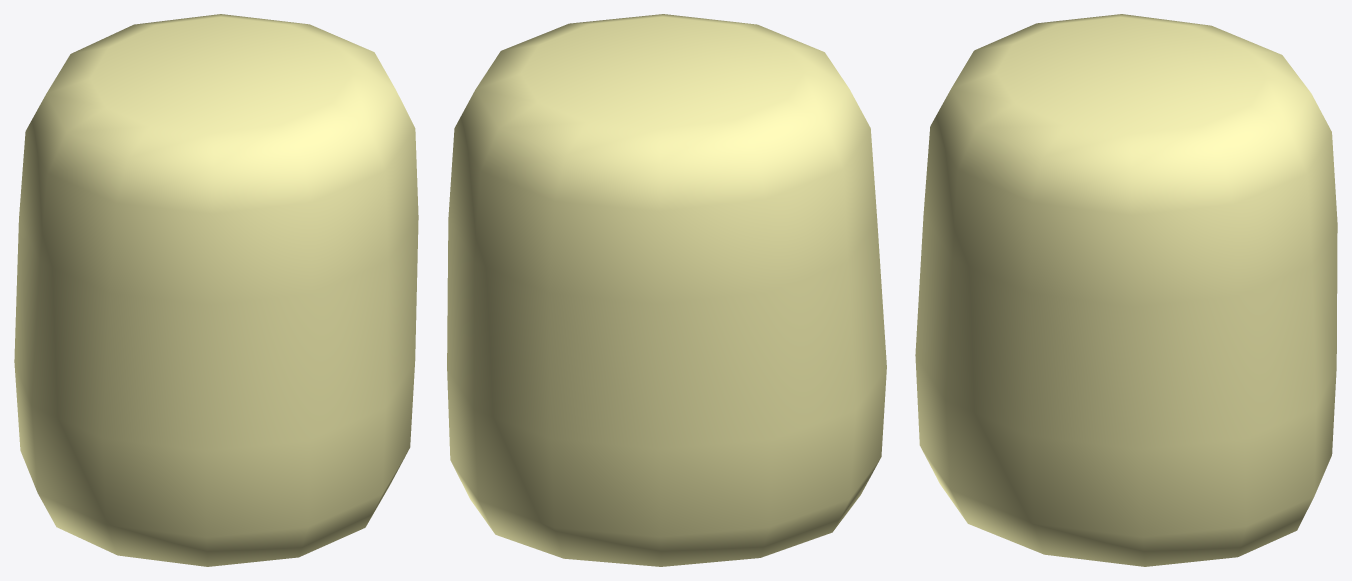
File: marshmallow_003.glb
3 renders of one model, left to right at view 1: azimuth 30°, elevation 25°; view 2: azimuth 150°, elevation 25°; view 3: azimuth 270°, elevation 25°, orthographic. The views are drawn at different scales.
Visible parts, largest first — view 1: marshmallow_003; view 2: marshmallow_003; view 3: marshmallow_003.
Part boxes in pixels (x1,y1,x2,y2): marshmallow_003: (14,14,418,566); marshmallow_003: (447,14,886,566); marshmallow_003: (915,14,1337,566).
Bounding box in the file's own units: 1.1 × 1.22 × 1.08.
1 material, 1 textured.
